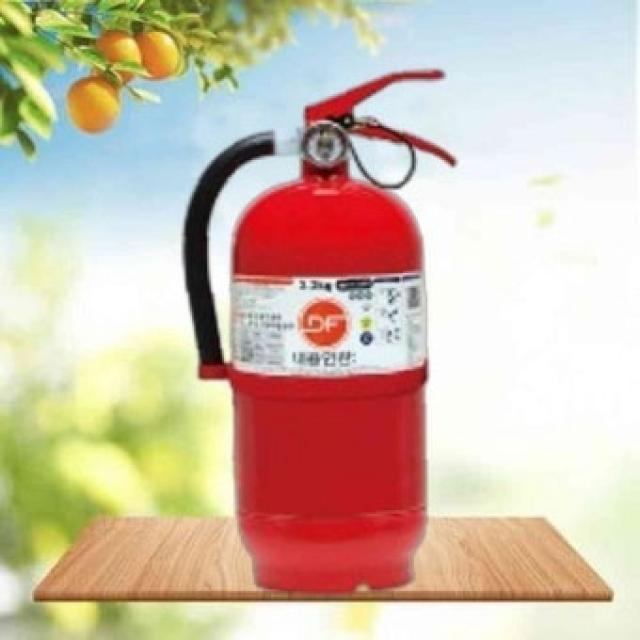pressure gauge: (302, 121, 348, 169)
